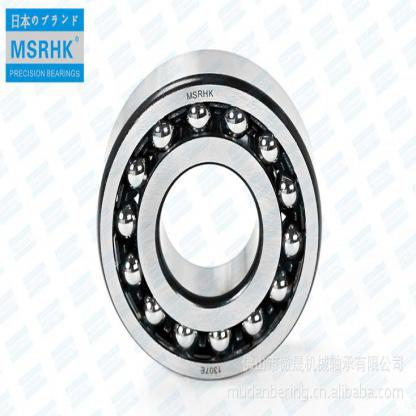FOD: (90, 43, 328, 389)
